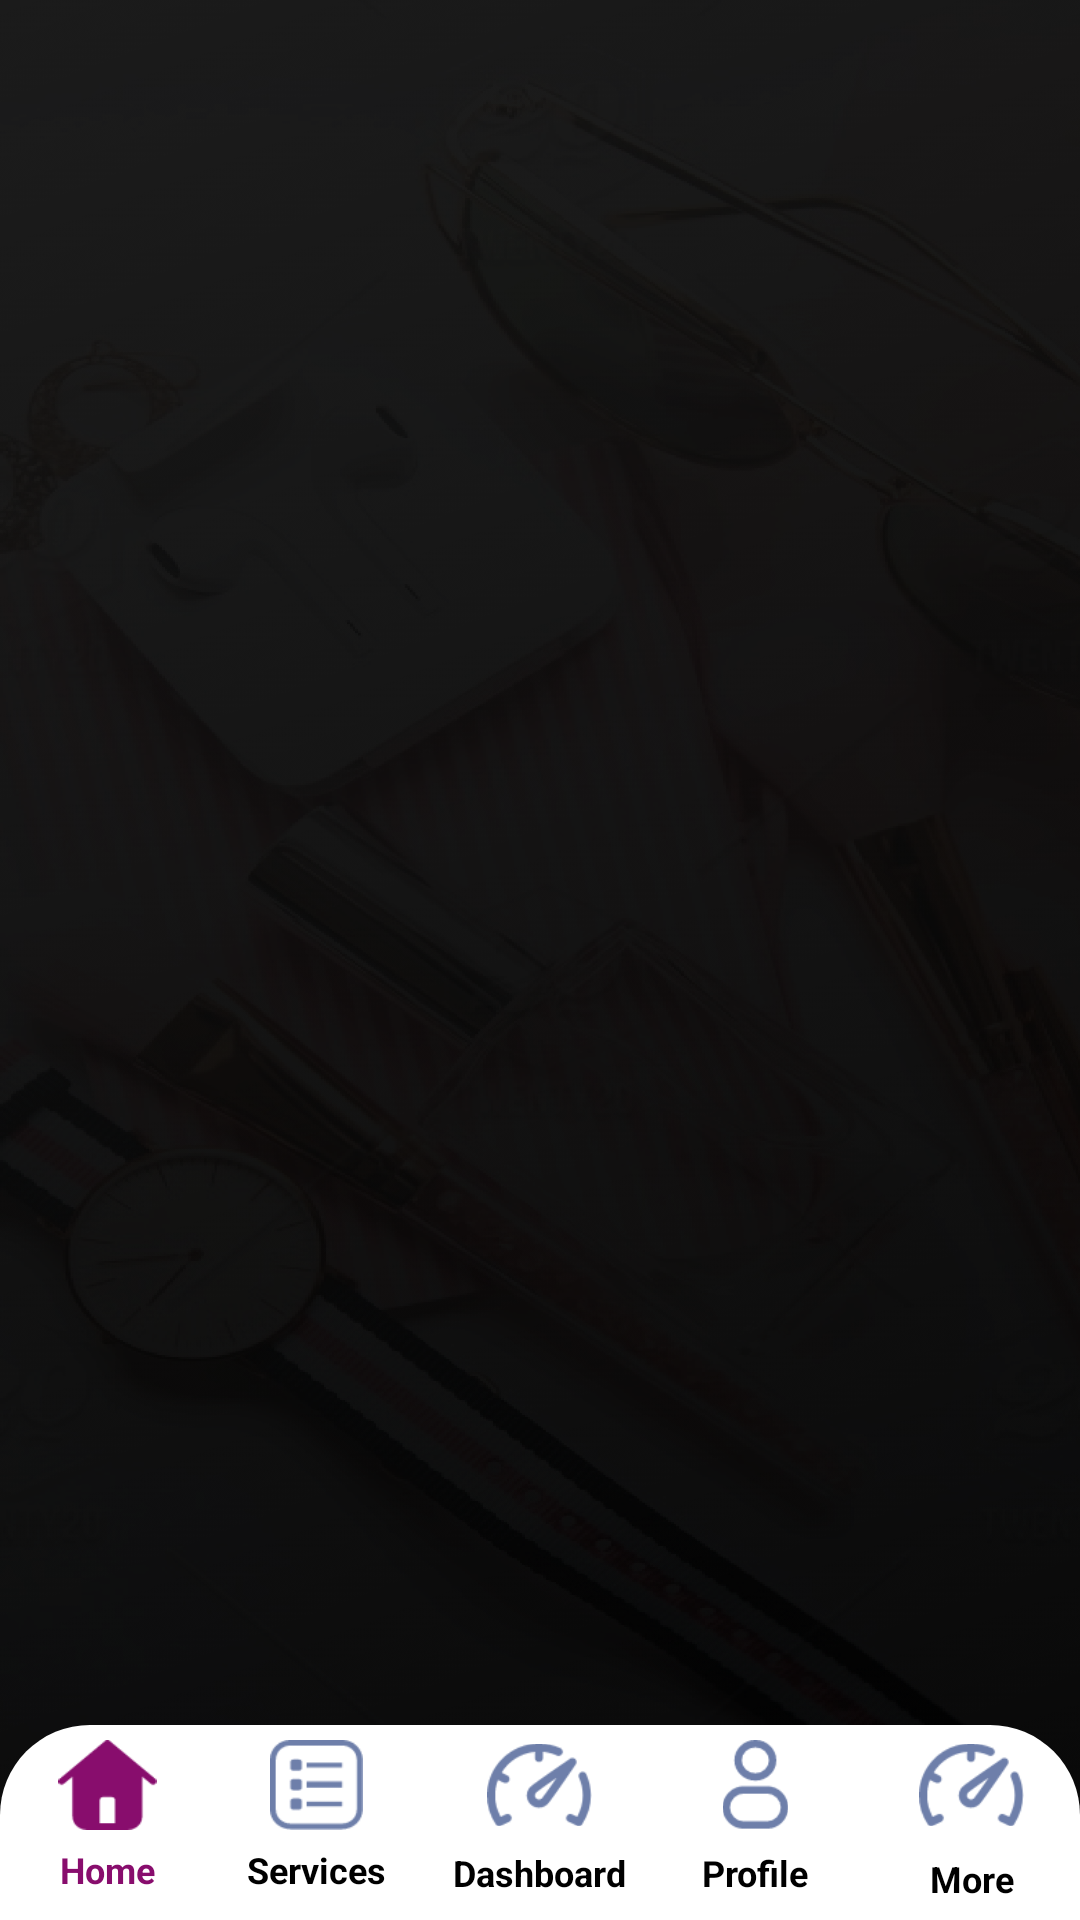

Point at icon controls on the screen. Image size 1080 x 1920, points as [x,y].
list: [316,1785]
user: [755,1784]
